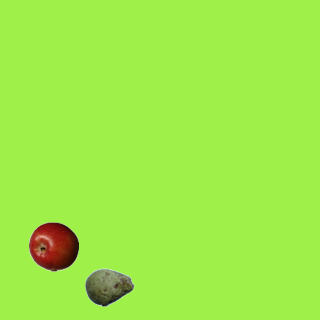Apple Braeburn: (28, 221, 78, 271)
Pear Stone: (84, 262, 134, 312)
